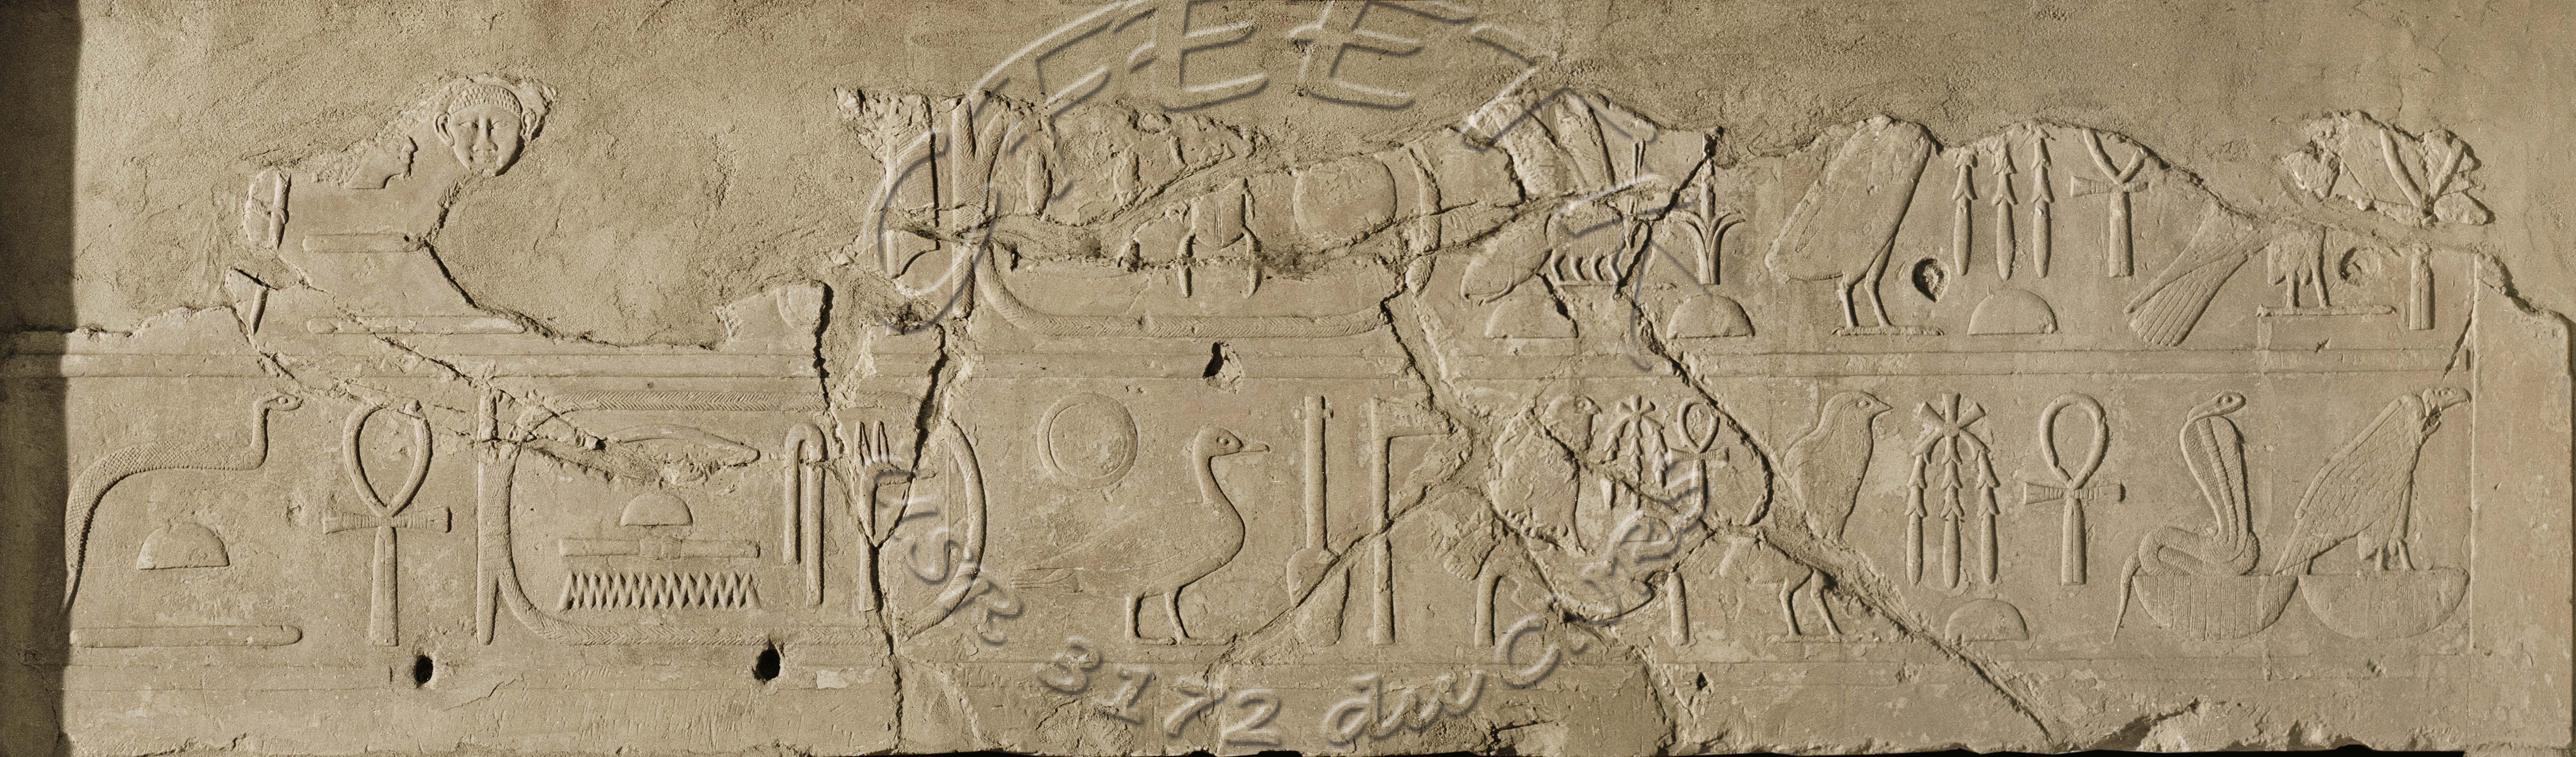F35: (1265, 378, 1367, 655)
G43: (1738, 80, 1953, 346), (1725, 381, 1897, 655)
I10: (39, 379, 329, 714)
N35: (552, 570, 777, 621)
V30: (2293, 560, 2476, 650), (2121, 567, 2305, 654)
